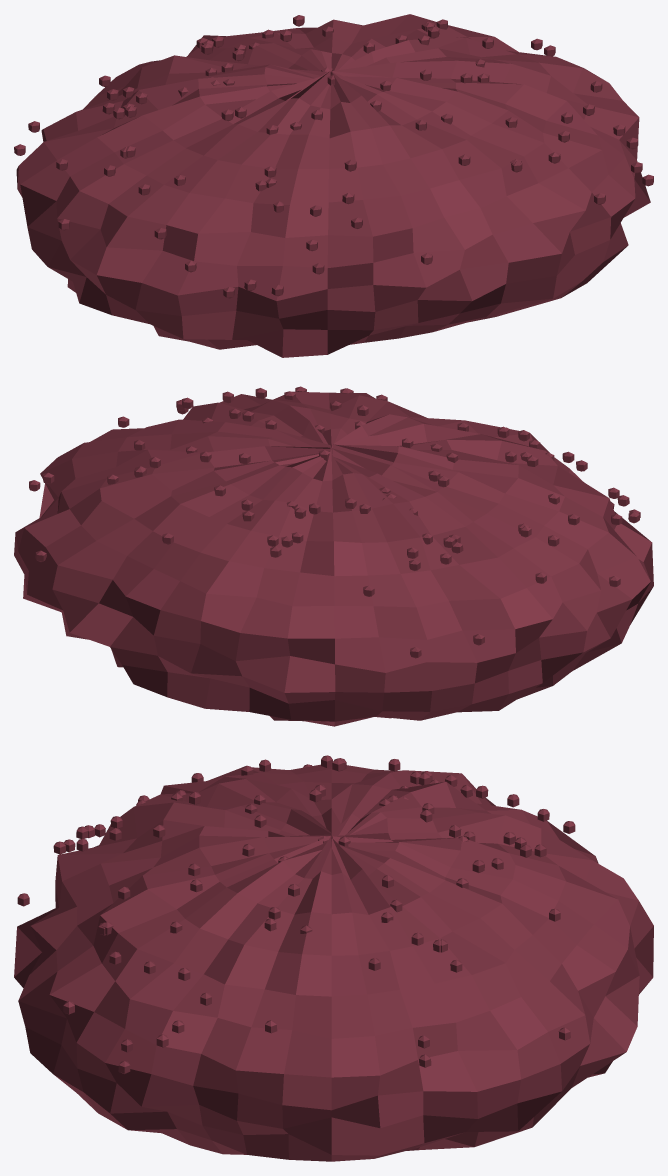
File: Sumac.glb
The picture shows the model from 3 angles, top to bottom: view 1: azimuth 30°, elevation 25°; view 2: azimuth 150°, elevation 25°; view 3: azimuth 270°, elevation 25°; orthographic projection. The views are drawn at different scales.
Visible parts, largest first — view 1: Sumac; view 2: Sumac; view 3: Sumac.
Part boxes in pixels (x1,y1,x2,y2): Sumac: (14, 14, 653, 357); Sumac: (14, 386, 653, 726); Sumac: (14, 755, 653, 1161).
Size of what is drawn, in the model's own units: 0.0719 by 0.0278 by 0.0617.
